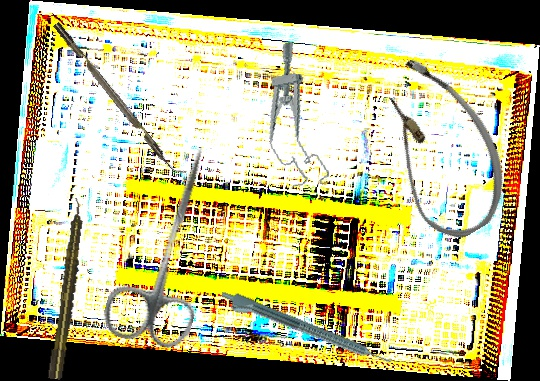Cannula: (348, 44, 530, 252)
Chopper: (53, 15, 188, 182)
Handpiece: (216, 287, 394, 375), (46, 197, 89, 381)
Iris Scissors: (98, 134, 240, 356)
Speculum: (251, 39, 332, 193)
